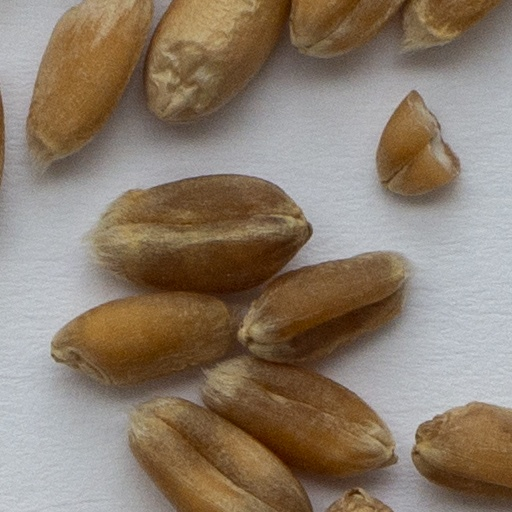Wheat-grain-damaged-poly: (376, 92, 457, 195)
